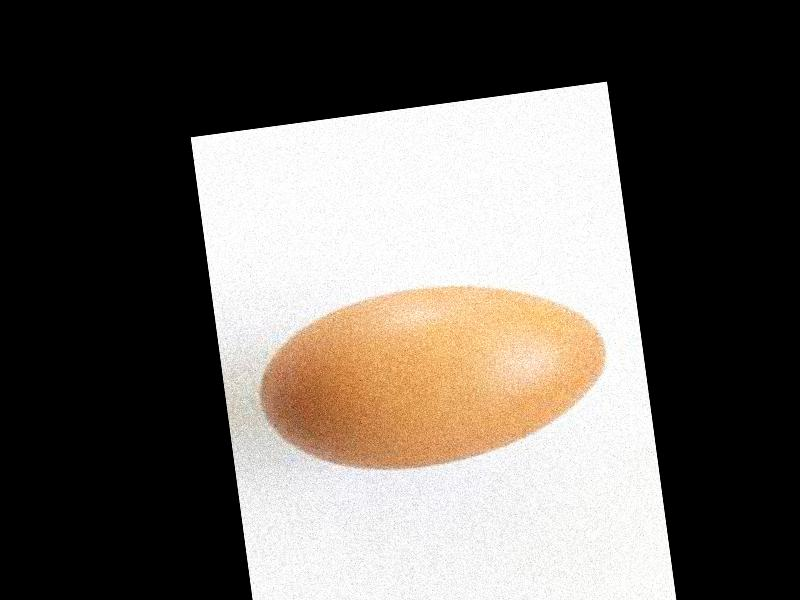Eggs: (251, 266, 617, 487)
